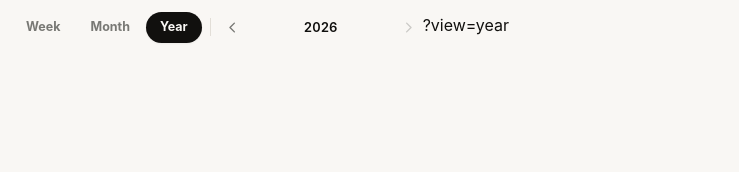
the year pager › steps whole years back and forward
The width and height of the screenshot is (739, 172).
Step 1. Click the button named "Previous year" → click(233, 27), box [219,13,247,41]
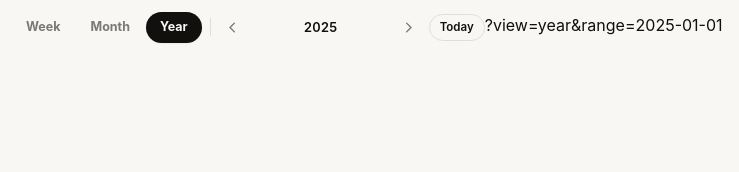
Expected: the text "2025" is shown, [304,19,338,35]
Step 2. Click the button named "Next year" → click(409, 27), box [395,13,423,41]
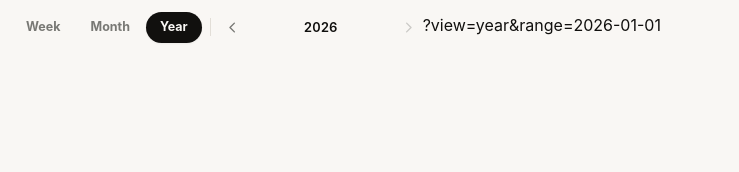
Expected: the text "2026" is shown, [304,19,338,35]
